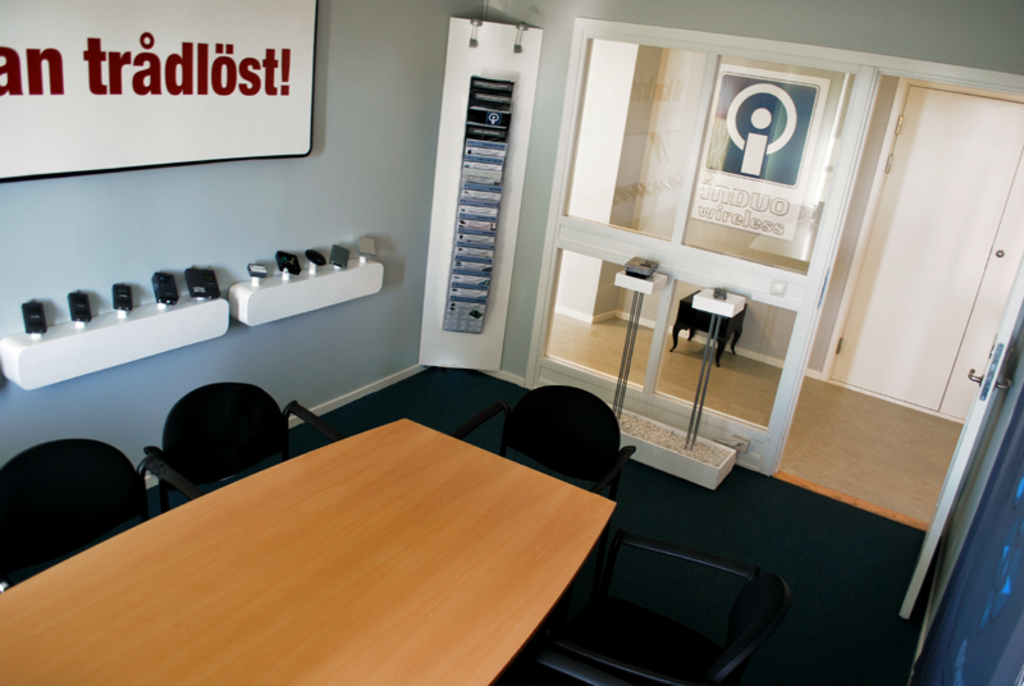door: (878, 83, 962, 408)
handle: (989, 373, 1016, 399), (962, 360, 982, 391)
